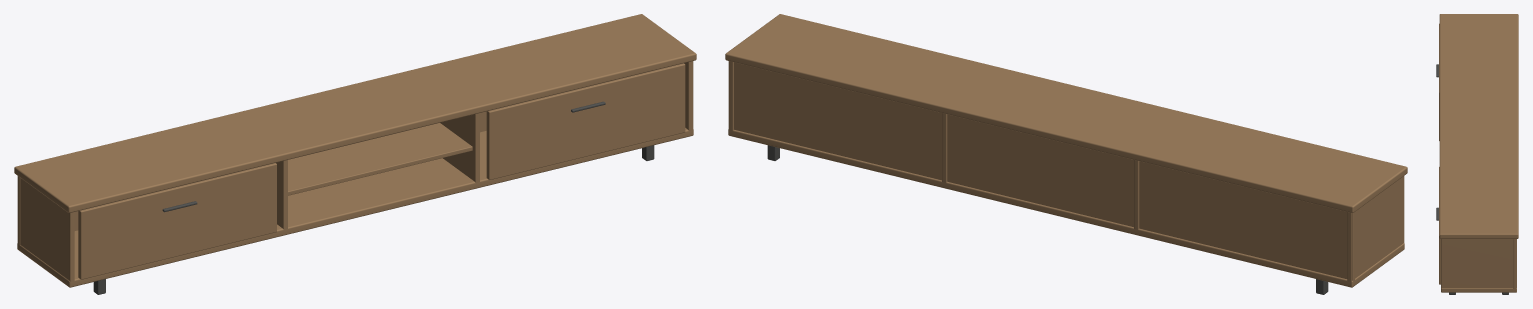
File: TVConsole410.fbx
3 views of the same model, side by side, from view 1: azimuth 30°, elevation 25°; view 2: azimuth 150°, elevation 25°; view 3: azimuth 270°, elevation 25° (orthographic). The views are drawn at different scales.
Visible parts, largest first — view 1: TVConsole410; view 2: TVConsole410; view 3: TVConsole410.
Boxes of the visible parts, x1=… form: TVConsole410: x1=14, y1=14, x2=696, y2=294; TVConsole410: x1=725, y1=14, x2=1407, y2=294; TVConsole410: x1=1436, y1=14, x2=1518, y2=294.
Bounding box in the file's own units: 4.12 × 0.6425 × 0.6495.
